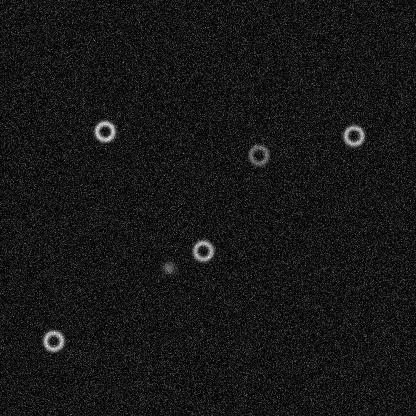Ring: (41, 328, 65, 352), (92, 119, 116, 143), (246, 142, 270, 166), (190, 238, 214, 262), (341, 123, 365, 147)
Spot: (160, 259, 176, 275)
